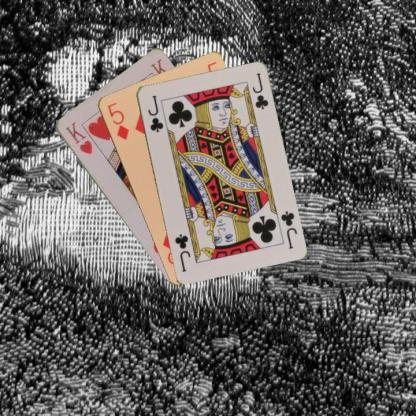5d: (105, 99, 130, 141)
Jc: (145, 92, 165, 134), (278, 208, 298, 250)
Kh: (62, 119, 94, 155)
